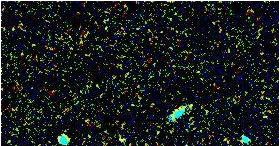star: (102, 123, 132, 146)
